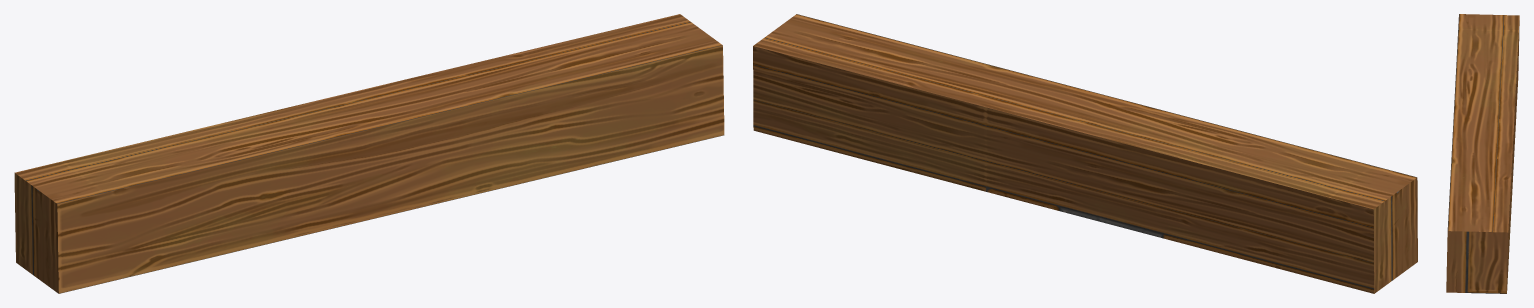
The picture shows the model from 3 angles, left to right: view 1: azimuth 30°, elevation 25°; view 2: azimuth 150°, elevation 25°; view 3: azimuth 270°, elevation 25°; orthographic projection. The views are drawn at different scales.
Parts seen in each view (by area): view 1: Cube.1403; view 2: Cube.1403; view 3: Cube.1403.
Part boxes in pixels (left/top/right/bottom): Cube.1403: left=14, top=14, right=724, bottom=293; Cube.1403: left=753, top=14, right=1417, bottom=293; Cube.1403: left=1446, top=14, right=1519, bottom=293.
Size of the model in its own units: 286 by 39.49 by 40.31.
Materials: 1 (1 with a texture image).
